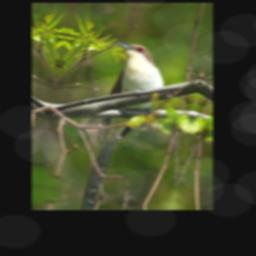Cuckoo: (79, 39, 174, 204)
